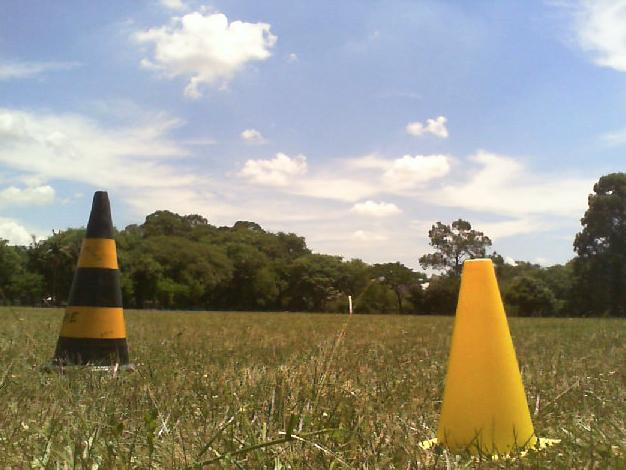0 cone: (416, 259, 561, 462), (39, 192, 138, 375)
